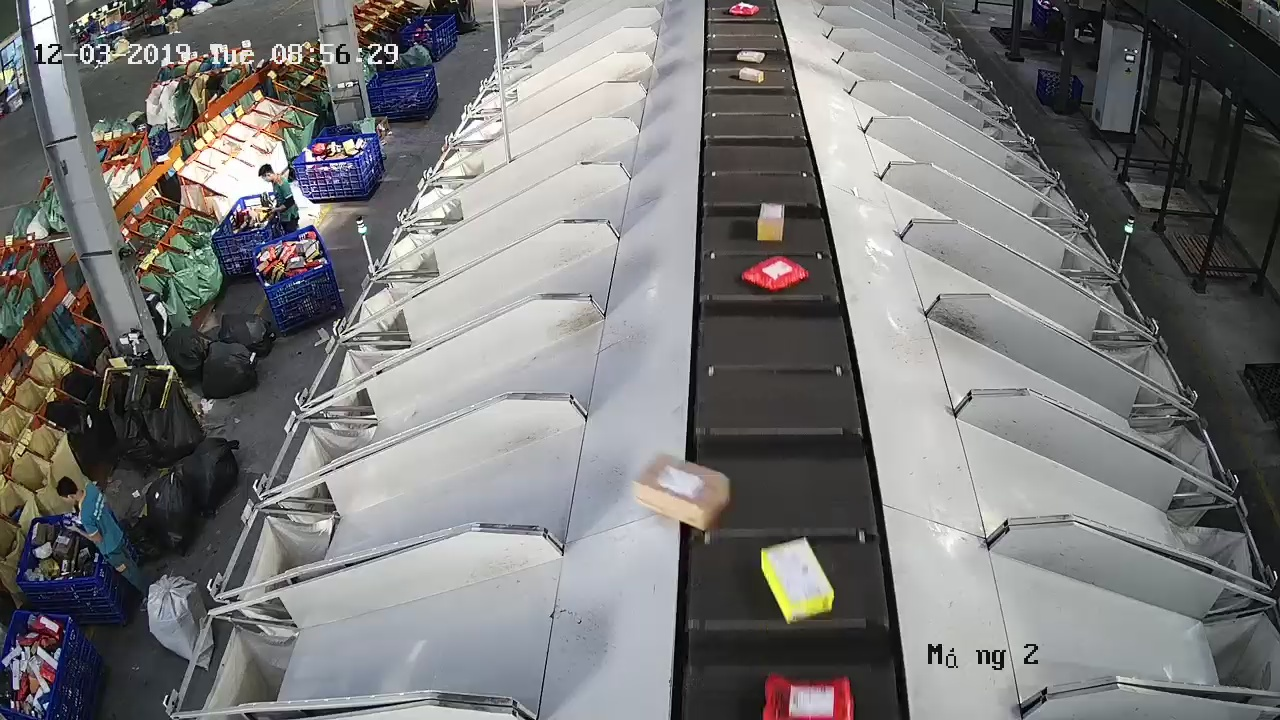parcel: (632, 452, 732, 533), (759, 536, 835, 626), (741, 255, 811, 294), (755, 201, 786, 243)
